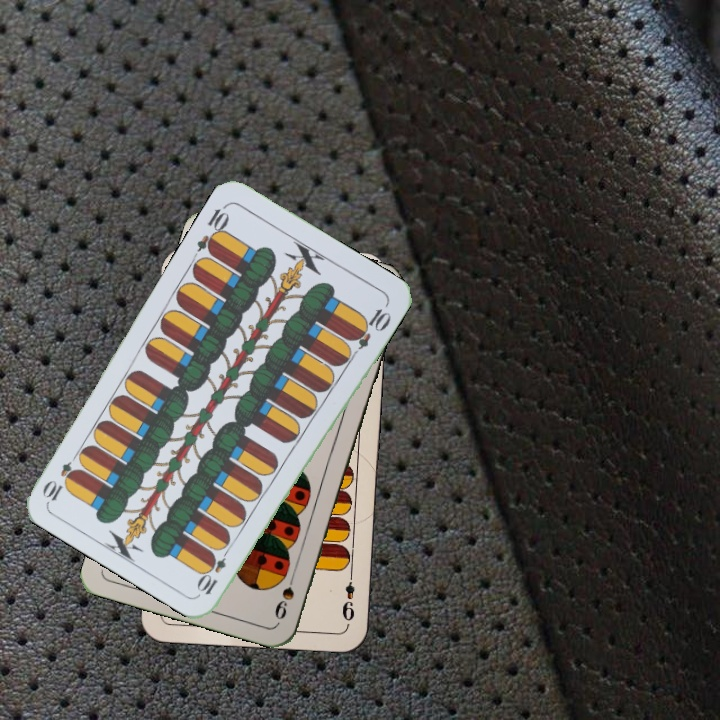E10: (193, 200, 232, 258), (195, 542, 233, 598)
E9: (338, 567, 357, 624)
S9: (270, 565, 299, 623)
